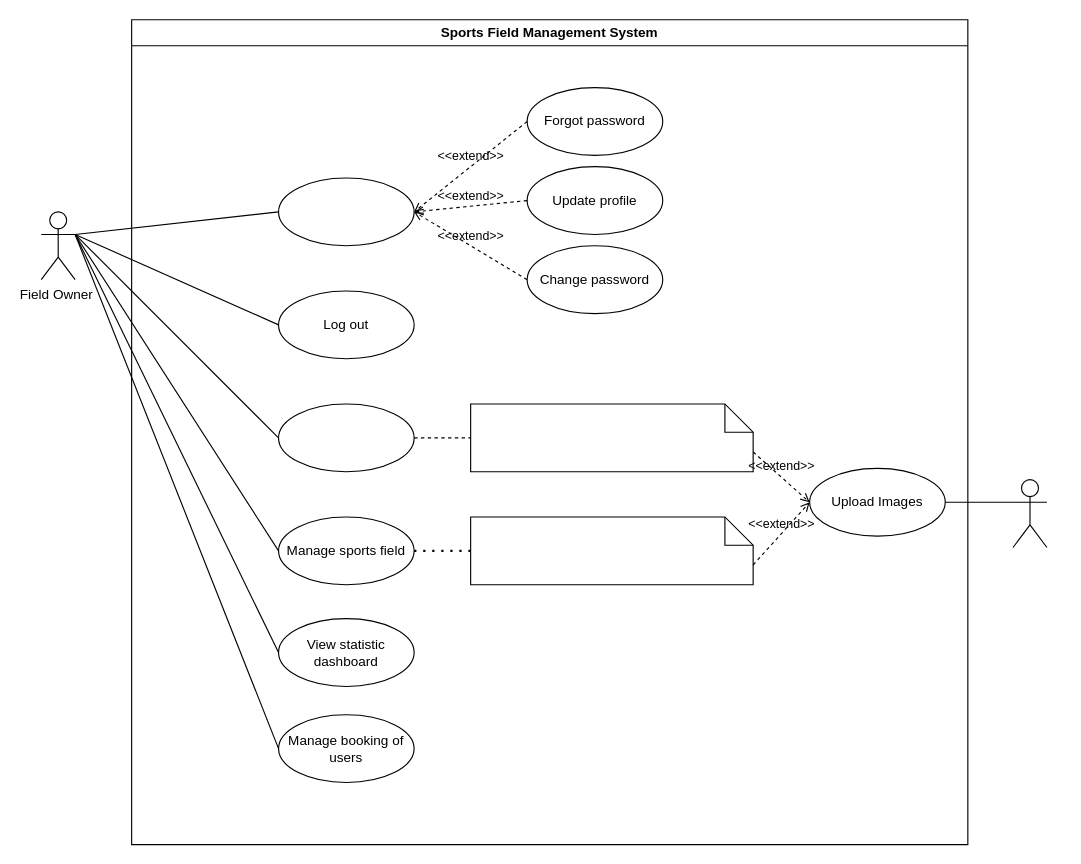
This 1081x864 diagram has some shape labels left out. The centre of each missing label's shape, as x and y in pixels:
"Cloudinary" goes at point 1029,513.
"Log in" goes at point 345,211.
"Manage field complex" goes at point 345,437.
"View/ Create/ Update/ Delete field complex" goes at point 611,437.
"View/ Create/ Update/ Delete sport field" goes at point 611,550.
